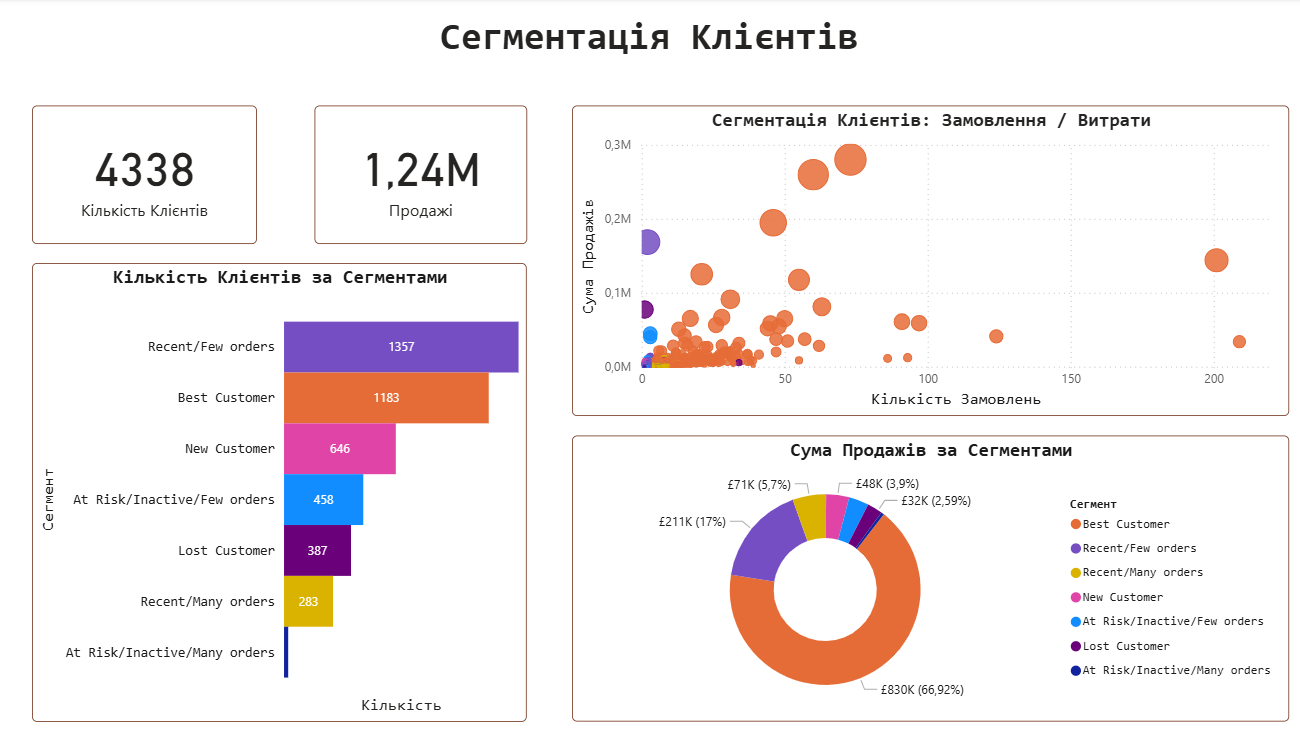

Layout of this report page (visuals, bound fields, positions):
{"tool":"powerbi","page":{"name":"Page 1","canvas":[1280,720],"ordinal":0},"visuals":[{"type":"donutChart","title":"Сума Продажів за Сегментами","fields":{"Category":["segmentation_analysis.customer_segment"],"Y":["Sum(online_retail_SQL.Price)"]},"box":[564.3,429.9,704,280.8],"z":0},{"type":"scatterChart","title":"Сегментація Клієнтів: Замовлення / Витрати","fields":{"Series":["segmentation_analysis.customer_segment"],"X":["segmentation_analysis.total_orders"],"Y":["segmentation_analysis.total_spend"],"Size":["Sum(segmentation_analysis.total_spend)"]},"box":[564.3,105.1,704,304.8],"z":1000},{"type":"card","fields":{"Values":["CountNonNull(segmentation_analysis.Customer_ID)"]},"box":[34.4,105.5,220.9,136.2],"z":2000},{"type":"card","fields":{"Values":["Sum(online_retail_SQL.Price)"]},"box":[311.7,105.5,208.6,136.2],"z":3000},{"type":"barChart","title":"Кількість Клієнтів за Сегментами","fields":{"Y":["CountNonNull(segmentation_analysis.Customer_ID)"],"Category":["segmentation_analysis.customer_segment"],"Series":["segmentation_analysis.customer_segment"]},"box":[34.4,260.1,485.9,450.3],"z":4000},{"type":"textbox","box":[0,10.6,1280.3,58.6],"z":5000}]}

Visuals, with their boxes in screenshot pixels (x1, y1, x2, y2), scaled from the page's 1280x720 canvas onto the 1300x731 screenshot:
"Сума Продажів за Сегментами" donutChart: [x1=573, y1=436, x2=1288, y2=722]
"Сегментація Клієнтів: Замовлення / Витрати" scatterChart: [x1=573, y1=107, x2=1288, y2=416]
card - CountNonNull(segmentation_analysis.Customer_ID): [x1=35, y1=107, x2=259, y2=245]
card - Sum(online_retail_SQL.Price): [x1=317, y1=107, x2=528, y2=245]
"Кількість Клієнтів за Сегментами" barChart: [x1=35, y1=264, x2=528, y2=721]
textbox: [x1=0, y1=11, x2=1299, y2=70]
